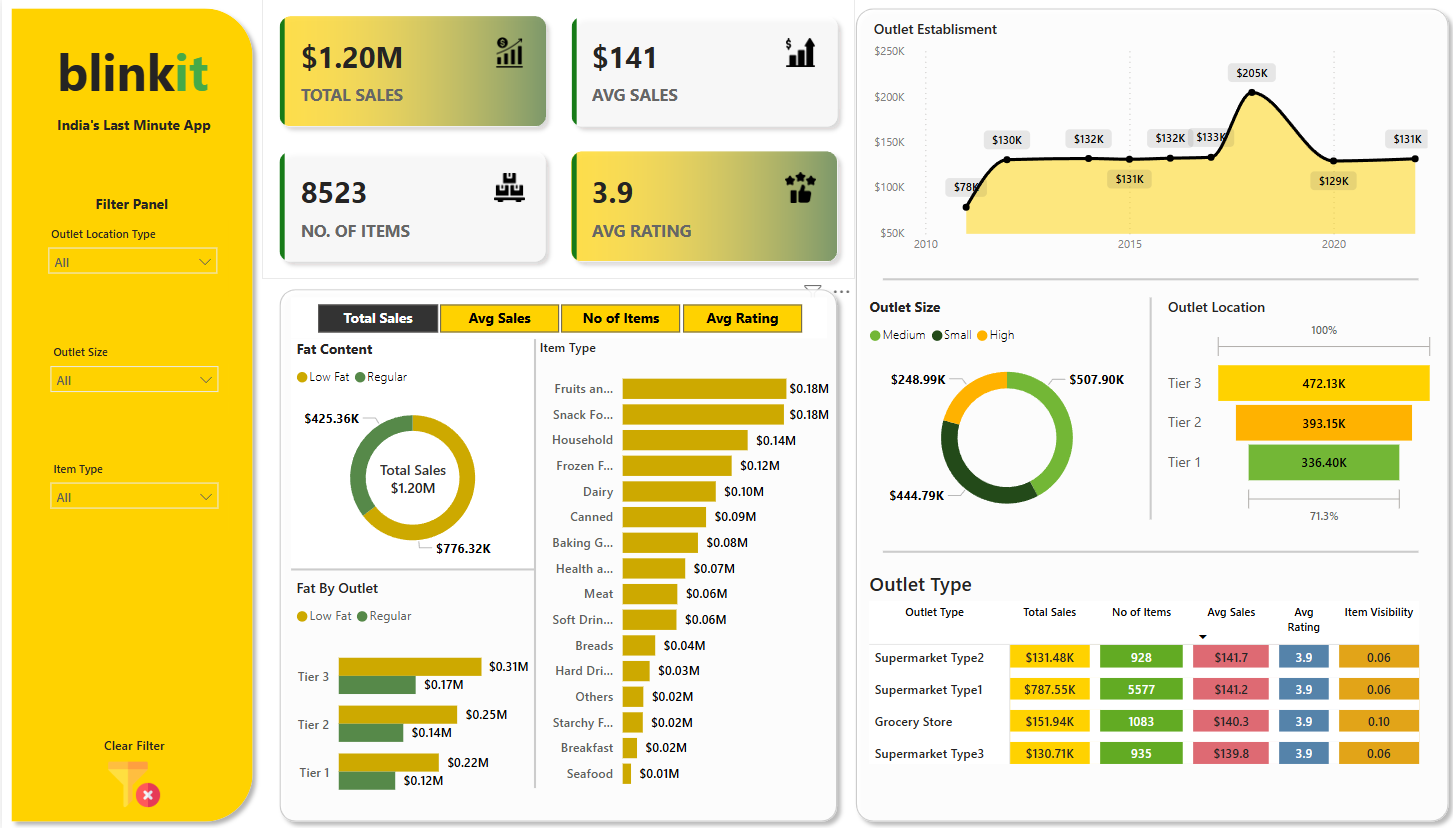

What the dashboard file says about the page in this screenshot:
{"tool":"powerbi","page":{"name":"Page 1","canvas":[1400,800],"ordinal":0},"visuals":[{"type":"shape","box":[0,0,250,800],"z":0},{"type":"textbox","box":[38.9,32.2,173.3,74.4],"z":1000},{"type":"textbox","box":[41.1,106.7,171.1,30],"z":2000},{"type":"cardVisual","fields":{"Data":["BlinkIT Grocery Data.Total Sales","BlinkIT Grocery Data.Avg Sales","BlinkIT Grocery Data.No of Items","BlinkIT Grocery Data.Avg Rating"]},"box":[250,0,570,270],"z":3000},{"type":"shape","box":[257.8,270,554.4,530],"z":4000},{"type":"donutChart","title":"Fat Content","fields":{"Y":["BlinkIT Grocery Data.Total Sales"],"Category":["BlinkIT Grocery Data.Item Fat Content"]},"box":[277.8,326.7,234.4,222.2],"z":5000},{"type":"slicer","fields":{"Values":["Metrics.Metrics"]},"box":[277.8,286.7,515.6,40],"z":6000},{"type":"cardVisual","fields":{"Data":["BlinkIT Grocery Data.Total Sales"]},"box":[344.4,426.7,101.1,61.1],"z":7000},{"type":"clusteredBarChart","title":"Fat By Outlet","fields":{"Y":["BlinkIT Grocery Data.Total Sales"],"Series":["BlinkIT Grocery Data.Item Fat Content"],"Category":["BlinkIT Grocery Data.Outlet Location Type"]},"box":[277.8,556.7,234.4,228.9],"z":8000},{"type":"shape","box":[277.8,531.1,234.4,34.4],"z":9000},{"type":"shape","box":[488.9,326.7,46.7,432.2],"z":10000},{"type":"barChart","title":"Item Type","fields":{"Y":["BlinkIT Grocery Data.Total Sales"],"Category":["BlinkIT Grocery Data.Item Type"]},"box":[512.2,326.7,288.9,443.3],"z":11000},{"type":"shape","box":[812.2,0,587.8,800],"z":12000},{"type":"lineChart","title":"Outlet Establisment","fields":{"Y":["BlinkIT Grocery Data.Total Sales"],"Category":["BlinkIT Grocery Data.Outlet Establishment Year"]},"box":[833.3,18.9,542.2,235.6],"z":13000},{"type":"shape","box":[846.7,252.2,515.6,34.4],"z":14000},{"type":"donutChart","title":"Outlet Size","fields":{"Y":["BlinkIT Grocery Data.Total Sales"],"Category":["BlinkIT Grocery Data.Outlet Size"]},"box":[828.9,286.7,275.6,225.6],"z":15000},{"type":"shape","box":[1081.1,286.7,46.7,214.4],"z":16000},{"type":"funnel","title":"Outlet Location","fields":{"Y":["Sum(BlinkIT Grocery Data.Sales)"],"Category":["BlinkIT Grocery Data.Outlet Location Type"]},"box":[1115.6,286.7,267.8,224.4],"z":17000},{"type":"shape","box":[846.7,514.4,515.6,34.4],"z":18000},{"type":"pivotTable","title":"Outlet Type","fields":{"Values":["BlinkIT Grocery Data.Total Sales","BlinkIT Grocery Data.No of Items","BlinkIT Grocery Data.Avg Sales","BlinkIT Grocery Data.Avg Rating","Avg(BlinkIT Grocery Data.Item Visibility)"],"Rows":["BlinkIT Grocery Data.Outlet Type"]},"box":[828.9,548.9,550,215.6],"z":19000},{"type":"slicer","fields":{"Values":["BlinkIT Grocery Data.Outlet Location Type"]},"box":[34.4,213.3,182.2,73.3],"z":20000},{"type":"slicer","fields":{"Values":["BlinkIT Grocery Data.Item Type"]},"box":[35.6,438.9,182.2,73.3],"z":21000},{"type":"slicer","fields":{"Values":["BlinkIT Grocery Data.Outlet Size"]},"box":[35.6,326.7,182.2,73.3],"z":22000},{"type":"textbox","box":[72.2,183.3,104.4,30],"z":23000},{"type":"image","title":"Clear Filter","box":[79,710,96,76],"z":23001}]}

Visuals, with their boxes in screenshot pixels (x1, y1, x2, y2), scaled from the page's 1400x800 canvas onto the 1453x828 screenshot:
shape: 0,0,259,827
textbox: 40,33,220,110
textbox: 43,110,220,141
cardVisual - BlinkIT Grocery Data.Total Sales x BlinkIT Grocery Data.Avg Sales: 259,0,851,279
shape: 268,279,843,827
"Fat Content" donutChart: 288,338,532,568
slicer - Metrics.Metrics: 288,297,823,338
cardVisual - BlinkIT Grocery Data.Total Sales: 357,442,462,505
"Fat By Outlet" clusteredBarChart: 288,576,532,813
shape: 288,550,532,585
shape: 507,338,556,785
"Item Type" barChart: 532,338,831,797
shape: 843,0,1452,827
"Outlet Establisment" lineChart: 865,20,1428,263
shape: 879,261,1414,297
"Outlet Size" donutChart: 860,297,1146,530
shape: 1122,297,1170,519
"Outlet Location" funnel: 1158,297,1436,529
shape: 879,532,1414,568
"Outlet Type" pivotTable: 860,568,1431,791
slicer - BlinkIT Grocery Data.Outlet Location Type: 36,221,225,297
slicer - BlinkIT Grocery Data.Item Type: 37,454,226,530
slicer - BlinkIT Grocery Data.Outlet Size: 37,338,226,414
textbox: 75,190,183,221
"Clear Filter" image: 82,735,182,814
